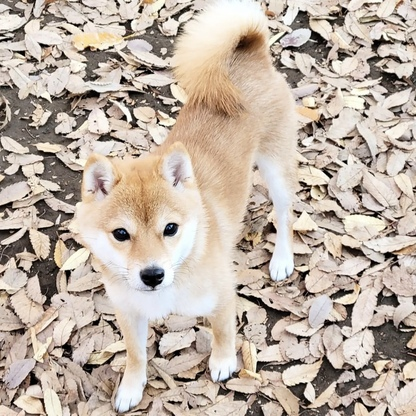shiba: (58, 1, 310, 416)
